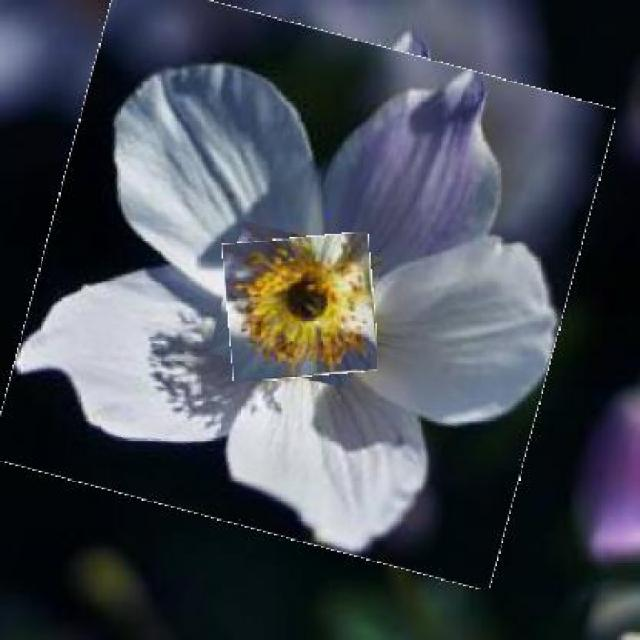Flower: (16, 5, 589, 562), (225, 235, 377, 379)
